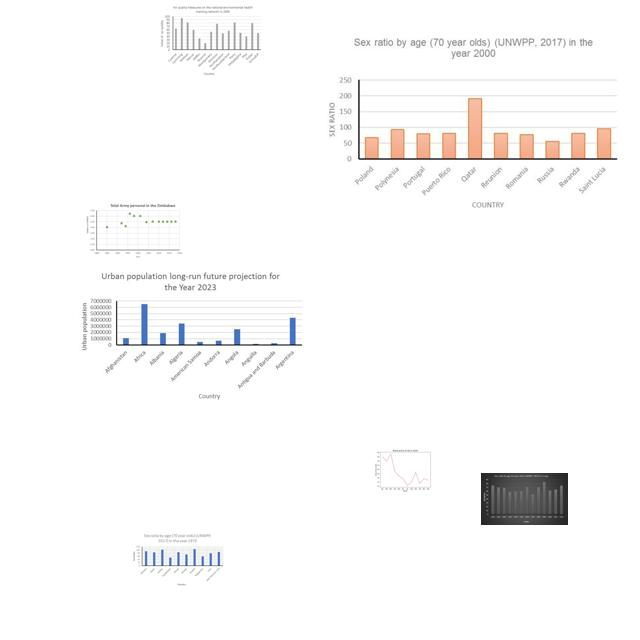Graph: (322, 33, 626, 216), (75, 268, 307, 402), (158, 3, 263, 78), (84, 201, 184, 260), (130, 532, 224, 587), (481, 473, 568, 525), (372, 445, 437, 494)
